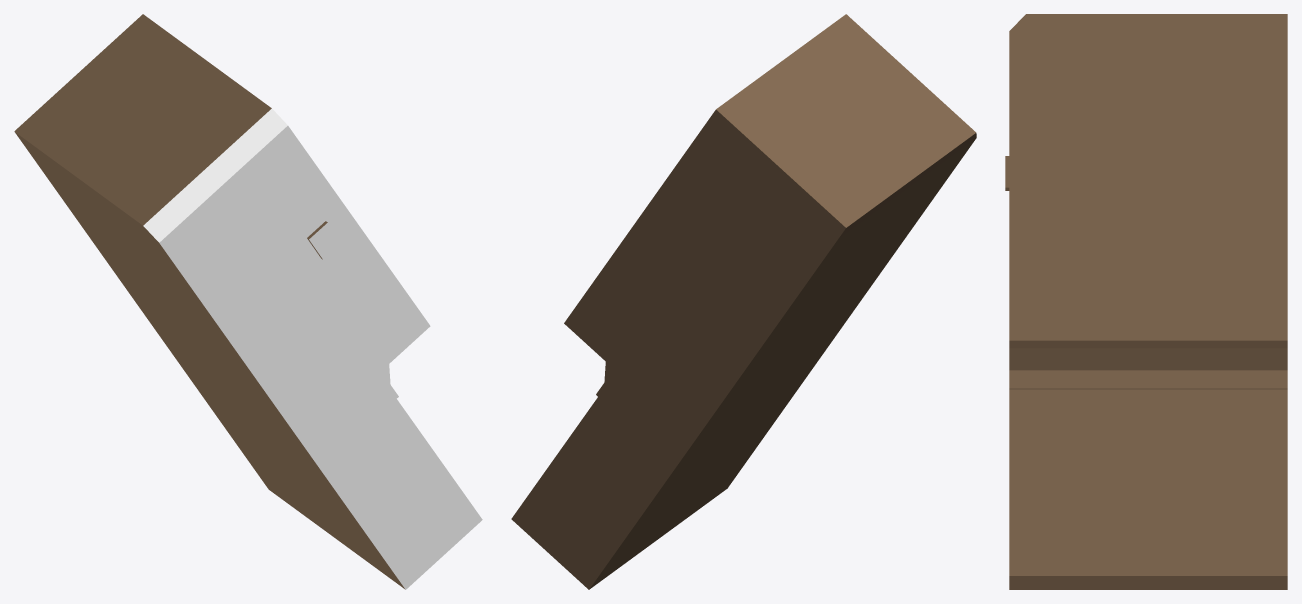
The picture shows the model from 3 angles, left to right: view 1: azimuth 30°, elevation 25°; view 2: azimuth 150°, elevation 25°; view 3: azimuth 270°, elevation 25°; orthographic projection.
Visible parts, largest first — view 1: City_1202430; view 2: City_1202430; view 3: City_1202430.
Part boxes in pixels (bbox=[...]): City_1202430: bbox=[14, 14, 482, 589]; City_1202430: bbox=[511, 14, 976, 589]; City_1202430: bbox=[1005, 14, 1287, 589].
Bounding box in the file's own units: 1410 × 2057 × 1025.
